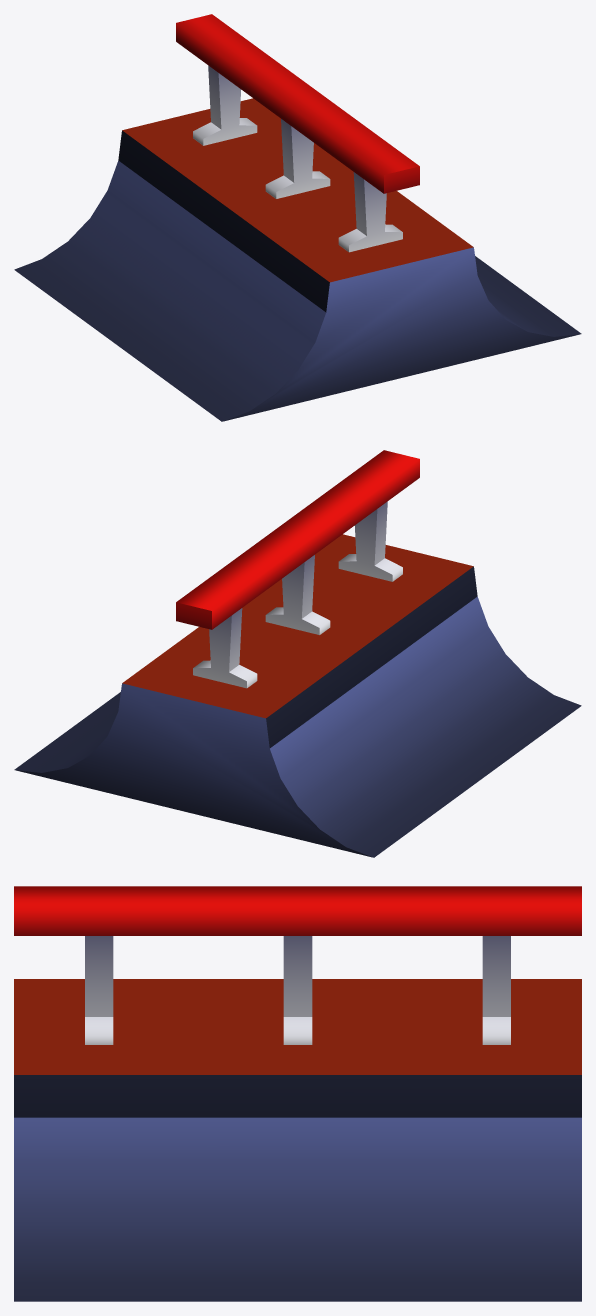
The model's file is obstacle-middle.fbx.
3 renders of one model, top to bottom at view 1: azimuth 30°, elevation 25°; view 2: azimuth 150°, elevation 25°; view 3: azimuth 270°, elevation 25°, orthographic. The views are drawn at different scales.
Parts seen in each view (by area): view 1: obstacle-middle; view 2: obstacle-middle; view 3: obstacle-middle.
Boxes of the visible parts, left/top/right/bottom form: obstacle-middle: left=14, top=14, right=581, bottom=421; obstacle-middle: left=14, top=450, right=581, bottom=857; obstacle-middle: left=14, top=886, right=581, bottom=1301.
Size of the model in its own units: 10 by 5.5 by 10.
